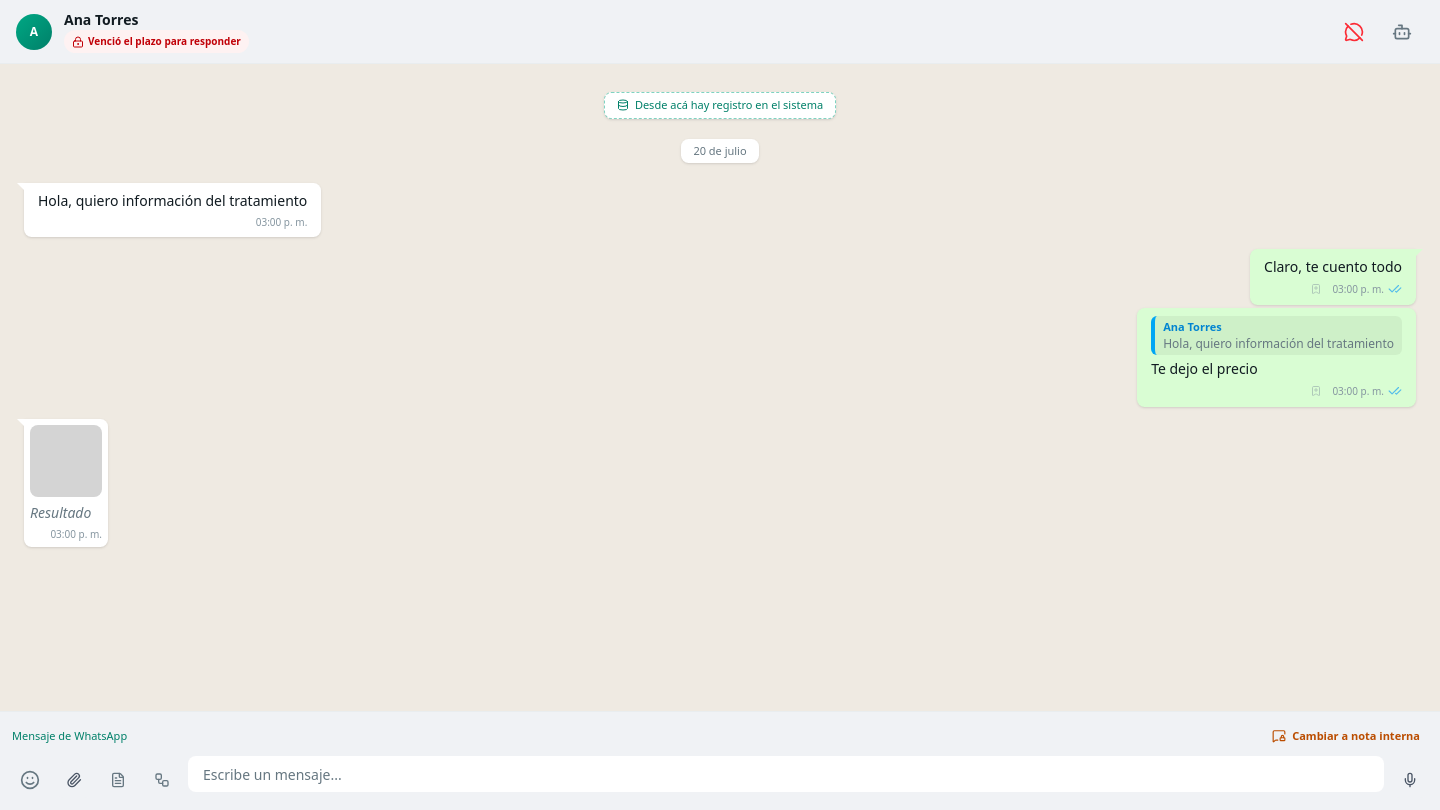
Test case: ChatThread › deja escribir un mensaje y ofrece enviarlo
In the text box with placeholder "Escribe un mensaje...": (786, 774) left=188, top=756, right=1384, bottom=792, type "Gracias"
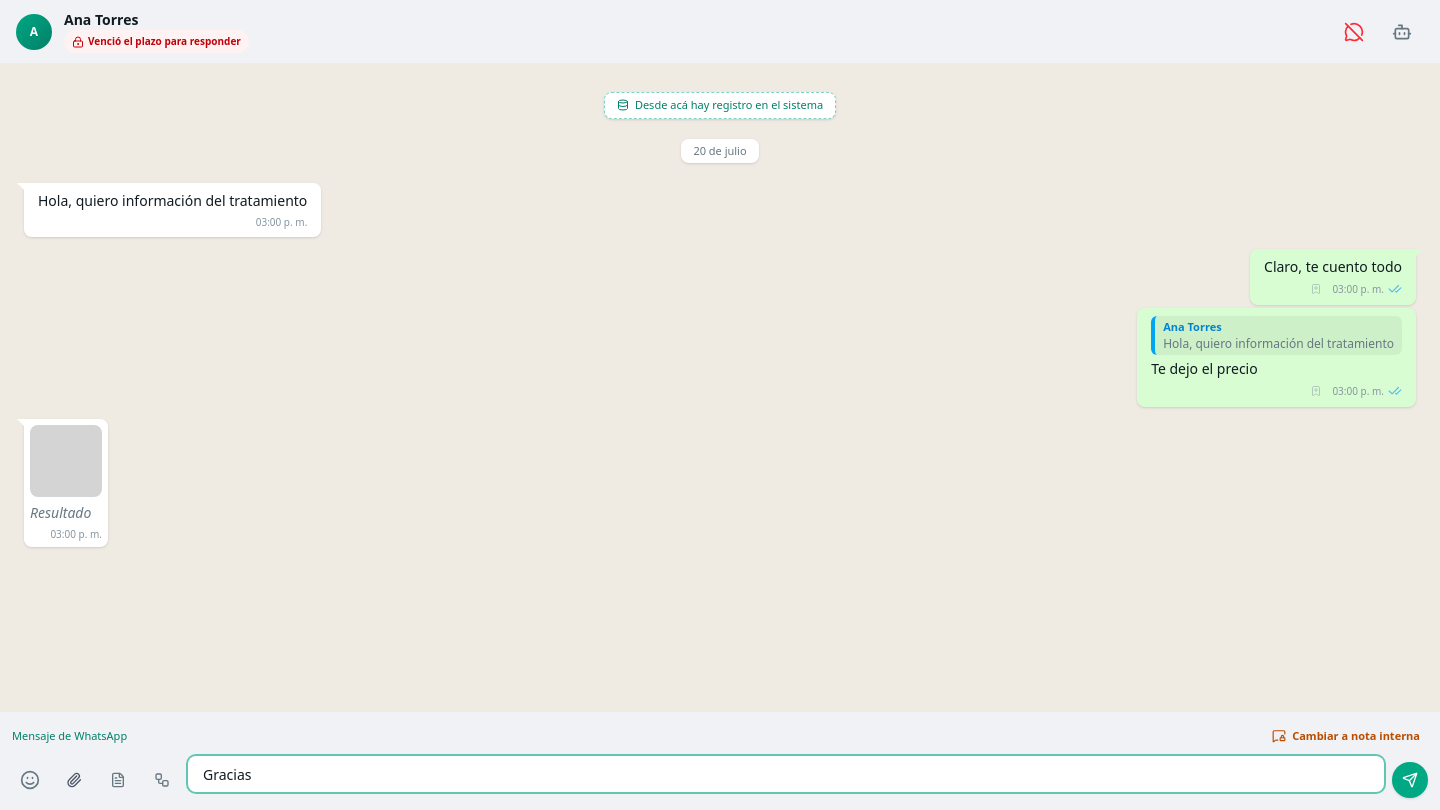
Expected: the button named "Enviar mensaje" is shown, left=1392, top=762, right=1428, bottom=798
